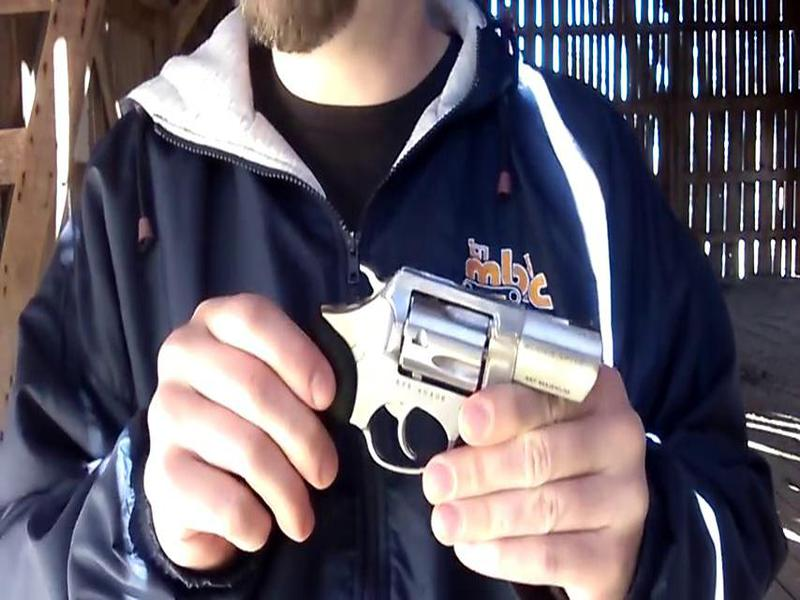Revolver: (314, 243, 614, 480)
